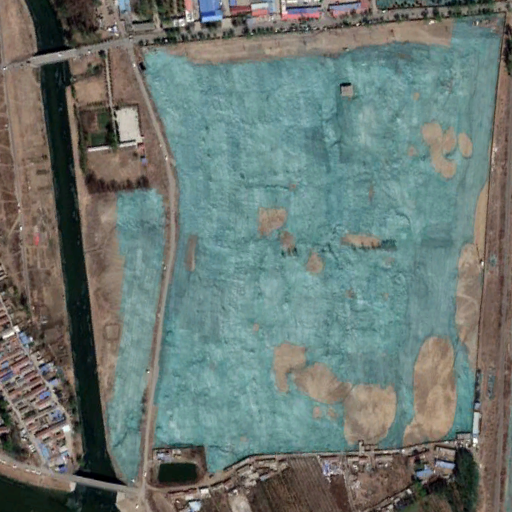cw: (106, 12, 507, 481)
